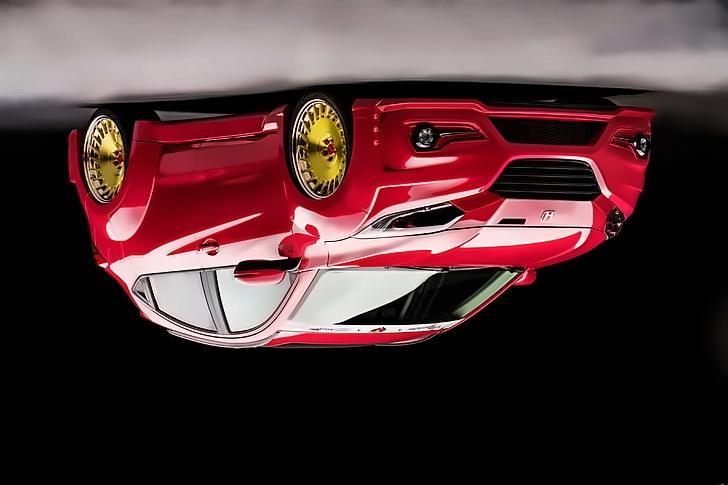Car hood: (322, 223, 609, 271)
Fender - -F-L-: (275, 101, 373, 275)
Fender - -R-L-: (86, 117, 139, 259)
Front bumper: (349, 93, 657, 210)
Headlight - -L-: (348, 194, 471, 242)
Headlight - -R-: (601, 197, 633, 243)
Passenger-s door - -F-L-: (194, 126, 303, 350)
Passenger-s door - -R-L-: (103, 134, 210, 349)
Rear bumper: (59, 126, 92, 217), (85, 234, 117, 273)
Side bumper - -L-: (125, 98, 290, 147)
Side mirror - -L-: (230, 252, 306, 292)
Side mirror - -R-: (508, 263, 540, 293)
